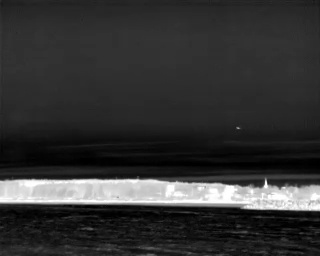BIRD: (235, 124, 242, 132)
